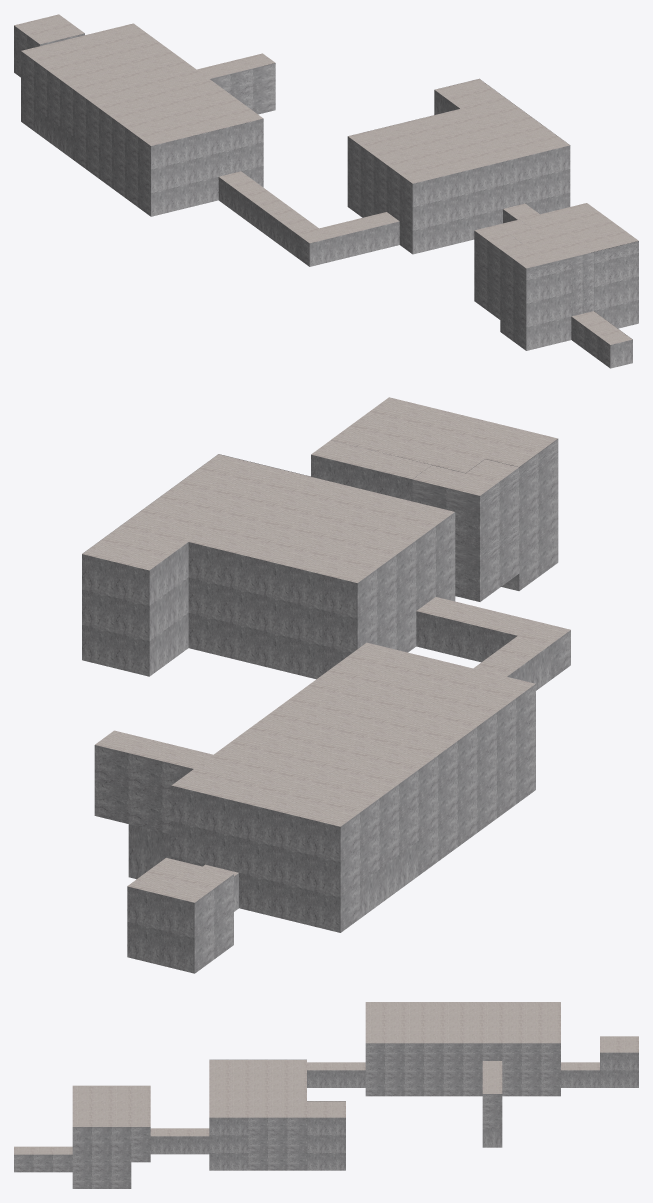
The model's file is PlayStageDxlib.fbx.
The picture shows the model from 3 angles, top to bottom: view 1: azimuth 30°, elevation 25°; view 2: azimuth 150°, elevation 25°; view 3: azimuth 270°, elevation 25°; orthographic projection. The views are drawn at different scales.
Visible parts, largest first — view 1: Plane.095; view 2: Plane.095; view 3: Plane.095.
Boxes of the visible parts, x1,y1,x2,y2 form: Plane.095: [14, 14, 638, 368]; Plane.095: [82, 397, 570, 973]; Plane.095: [14, 1002, 638, 1188].
Size of the model in its own units: 112 by 36.02 by 256.
Materials: 2 (2 with a texture image).
